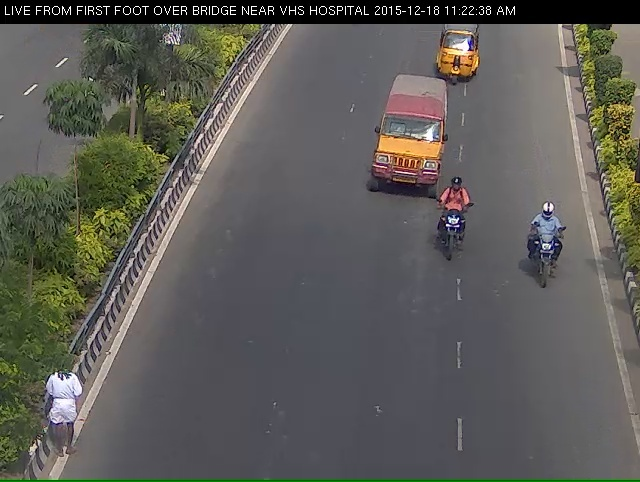Car: (366, 78, 440, 202), (429, 25, 483, 84)
Person: (532, 209, 567, 302), (437, 189, 472, 279)
